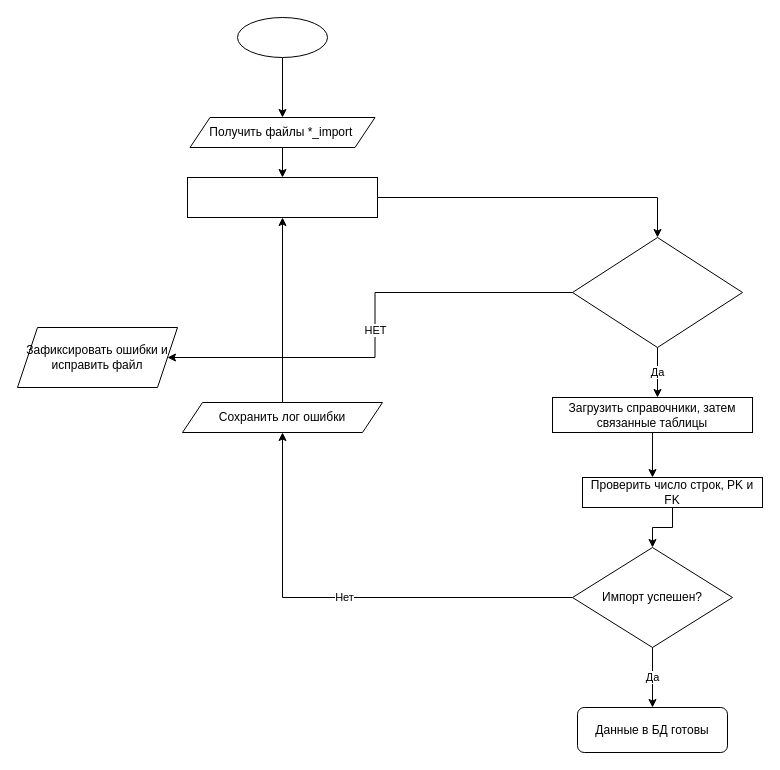
Some shapes in this 780 by 770 pixel diagram are drawn without their labels. The shapes that lost their labels are listed below. From the top down, each one's box as (x1, y1, x2, y2) in pixels, then its label:
(236, 16, 328, 58): Начало
(186, 176, 378, 218): Проверить кодировку, поля и связи
(572, 236, 742, 348): Данные корректны?
